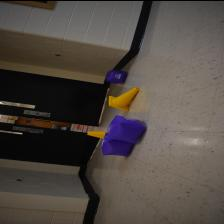cone: (109, 86, 139, 110), (87, 130, 109, 138)
cube: (107, 114, 146, 142), (100, 132, 132, 156), (106, 69, 128, 83)
